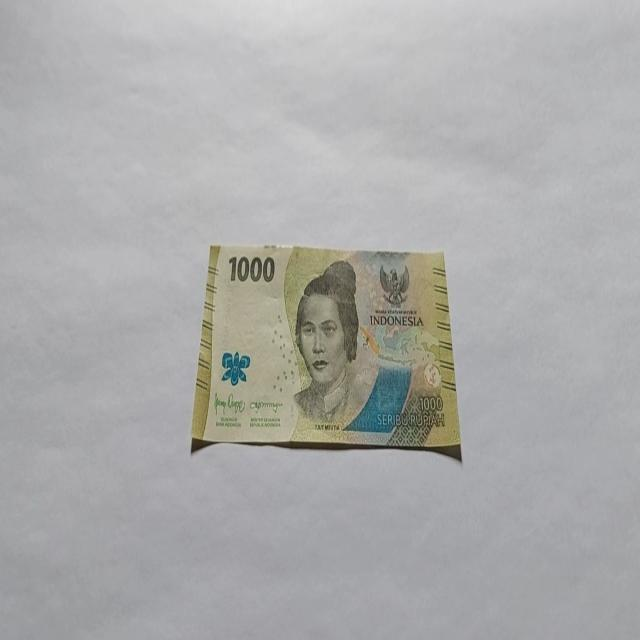seribu rupiah kertas: (189, 242, 462, 460)
